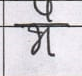ai_matra: (34, 0, 56, 22)
